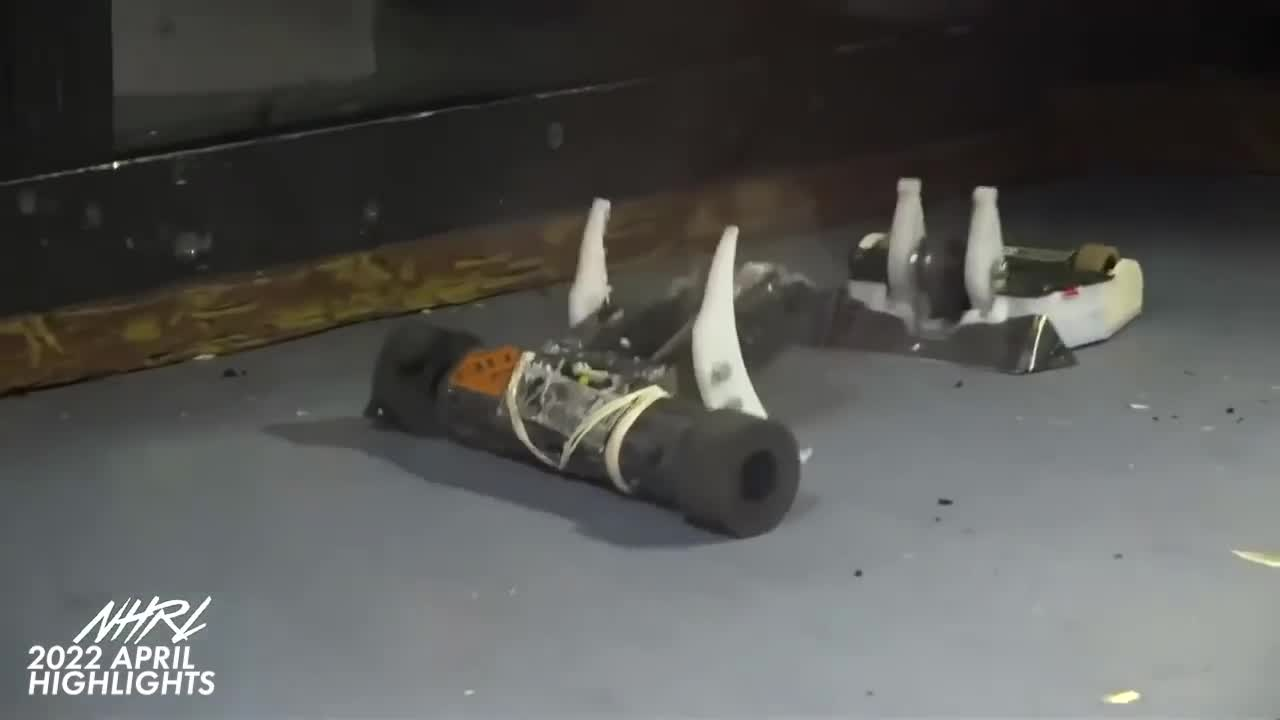combatbot: (364, 262, 804, 539), (794, 240, 1145, 374)
